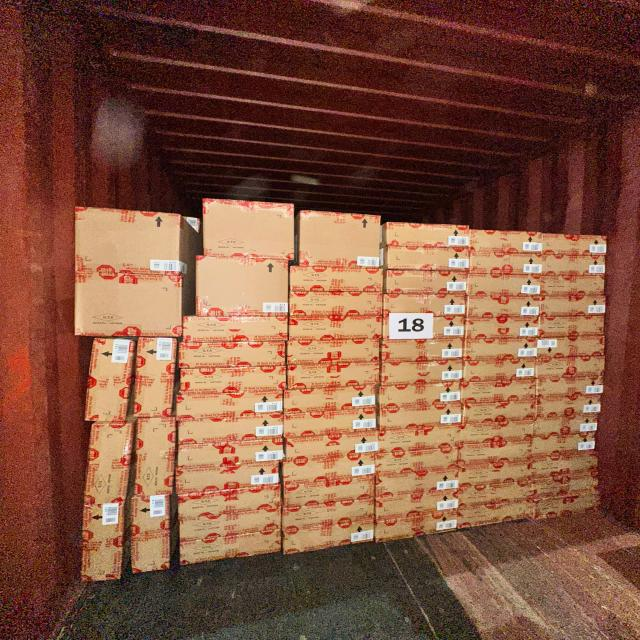Carton: (72, 204, 183, 277), (72, 268, 186, 339), (196, 256, 292, 318), (203, 198, 297, 260), (296, 208, 383, 270), (86, 340, 136, 426), (82, 422, 132, 507), (125, 494, 176, 577), (177, 506, 285, 544), (175, 460, 282, 497), (176, 411, 285, 447), (178, 528, 281, 566), (175, 436, 286, 471), (79, 500, 126, 582), (178, 484, 284, 520), (178, 363, 289, 397), (175, 339, 288, 370), (283, 517, 375, 555), (177, 389, 286, 421), (133, 337, 176, 418), (282, 495, 376, 532), (284, 450, 377, 487), (133, 419, 176, 498), (282, 473, 374, 509), (180, 313, 290, 343), (375, 507, 461, 545), (283, 382, 378, 416), (283, 406, 378, 440), (375, 486, 460, 524), (284, 429, 377, 463), (287, 288, 387, 318), (285, 337, 383, 367), (373, 444, 462, 476), (287, 264, 385, 293), (376, 423, 462, 455), (286, 363, 382, 391), (376, 401, 462, 432), (375, 467, 458, 499), (384, 243, 472, 273), (378, 380, 463, 411), (379, 357, 465, 387), (385, 220, 472, 249), (457, 498, 537, 529), (382, 268, 469, 296), (381, 314, 467, 342), (383, 291, 468, 319), (458, 436, 532, 468), (458, 457, 532, 489), (287, 316, 385, 340), (459, 479, 535, 509), (379, 338, 465, 364), (532, 489, 601, 520), (467, 249, 546, 276), (468, 228, 544, 256), (461, 397, 534, 426), (465, 271, 543, 298), (462, 355, 536, 383), (533, 469, 603, 498), (461, 418, 533, 446), (464, 314, 538, 341), (462, 377, 536, 404), (462, 336, 538, 362), (530, 431, 597, 460), (541, 230, 609, 258), (535, 354, 607, 380), (531, 454, 600, 481), (536, 333, 606, 359), (463, 294, 542, 317), (539, 252, 608, 278), (533, 394, 601, 420), (537, 314, 606, 339), (536, 374, 602, 400), (533, 412, 599, 438), (536, 274, 607, 297), (538, 294, 608, 316)
